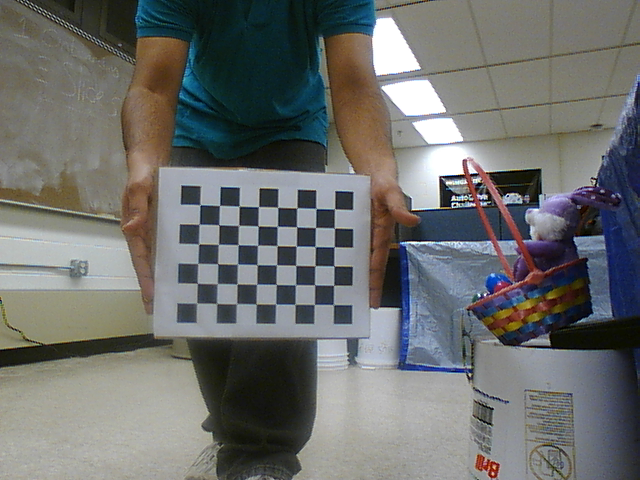bunny: (450, 154, 613, 349)
